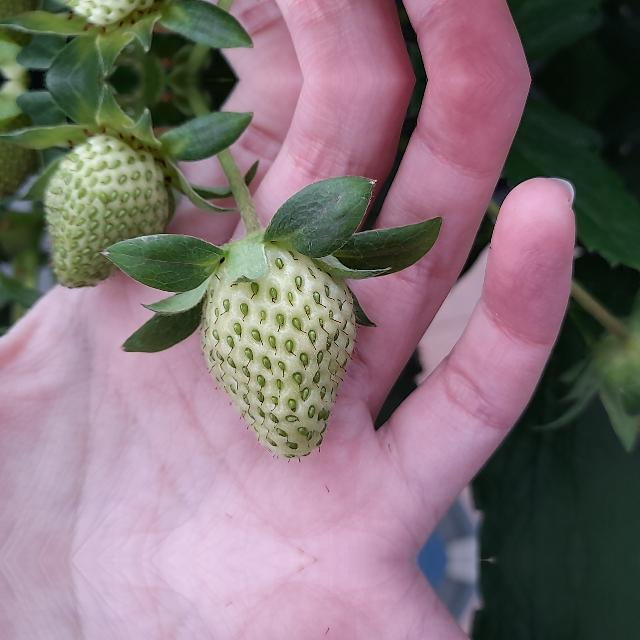Health_25: (200, 242, 356, 458), (49, 132, 172, 292)
